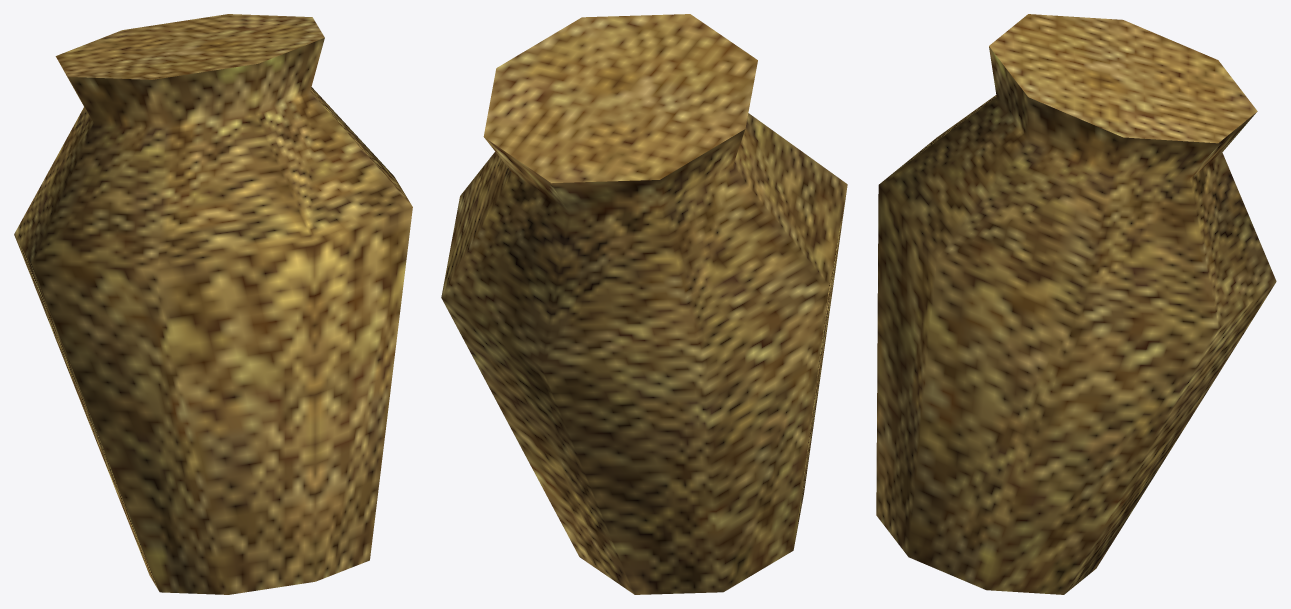
The model's file is luggage_female_back.dae.
The picture shows the model from 3 angles, left to right: view 1: azimuth 30°, elevation 25°; view 2: azimuth 150°, elevation 25°; view 3: azimuth 270°, elevation 25°; orthographic projection. The views are drawn at different scales.
Visible parts, largest first — view 1: carry_res_female; view 2: carry_res_female; view 3: carry_res_female.
Part boxes in pixels (bbox=[...]): carry_res_female: bbox=[14, 14, 412, 594]; carry_res_female: bbox=[441, 14, 847, 594]; carry_res_female: bbox=[876, 14, 1276, 594].
Bounding box in the file's own units: 0.8385 × 1.17 × 0.8144.
